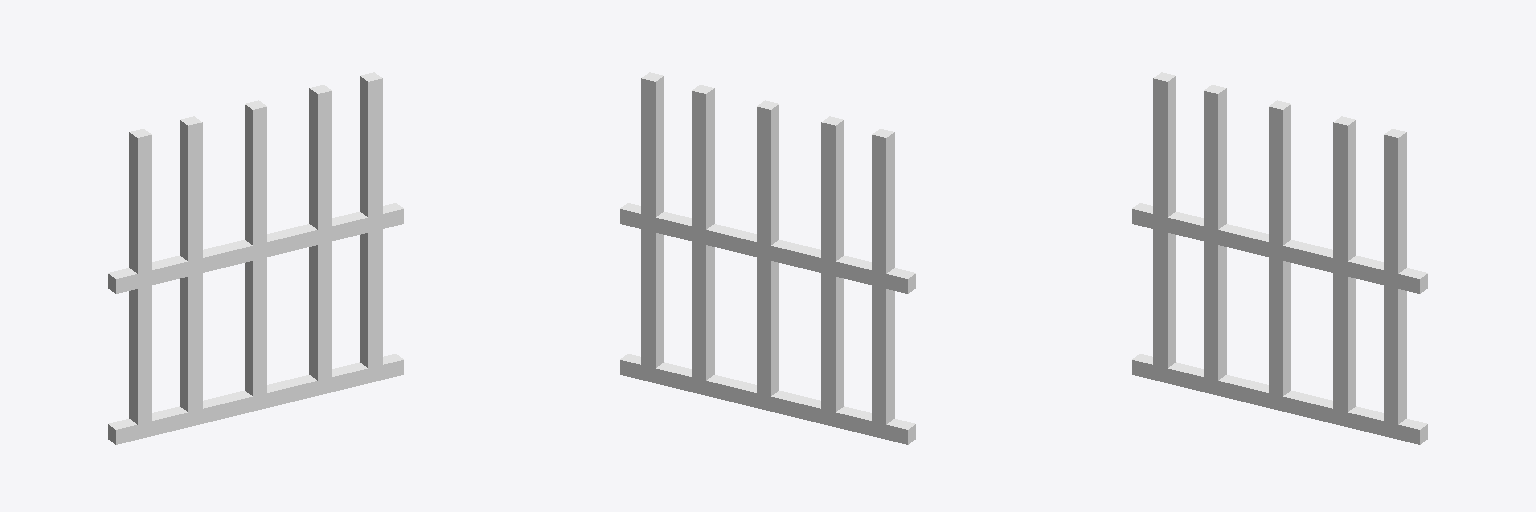
Rendered from BottomFencesMiddle.obj.
3 views of the same model, side by side, from view 1: azimuth 30°, elevation 25°; view 2: azimuth 150°, elevation 25°; view 3: azimuth 330°, elevation 25° (orthographic).
Parts seen in each view (by area): view 1: object 1; view 2: object 1; view 3: object 1.
Boxes of the visible parts, box(x1,y1,x2,y2) form: object 1: box(108, 72, 403, 444); object 1: box(620, 72, 915, 444); object 1: box(1132, 72, 1427, 444).
Size of the model in its own units: 4 by 4 by 0.2.